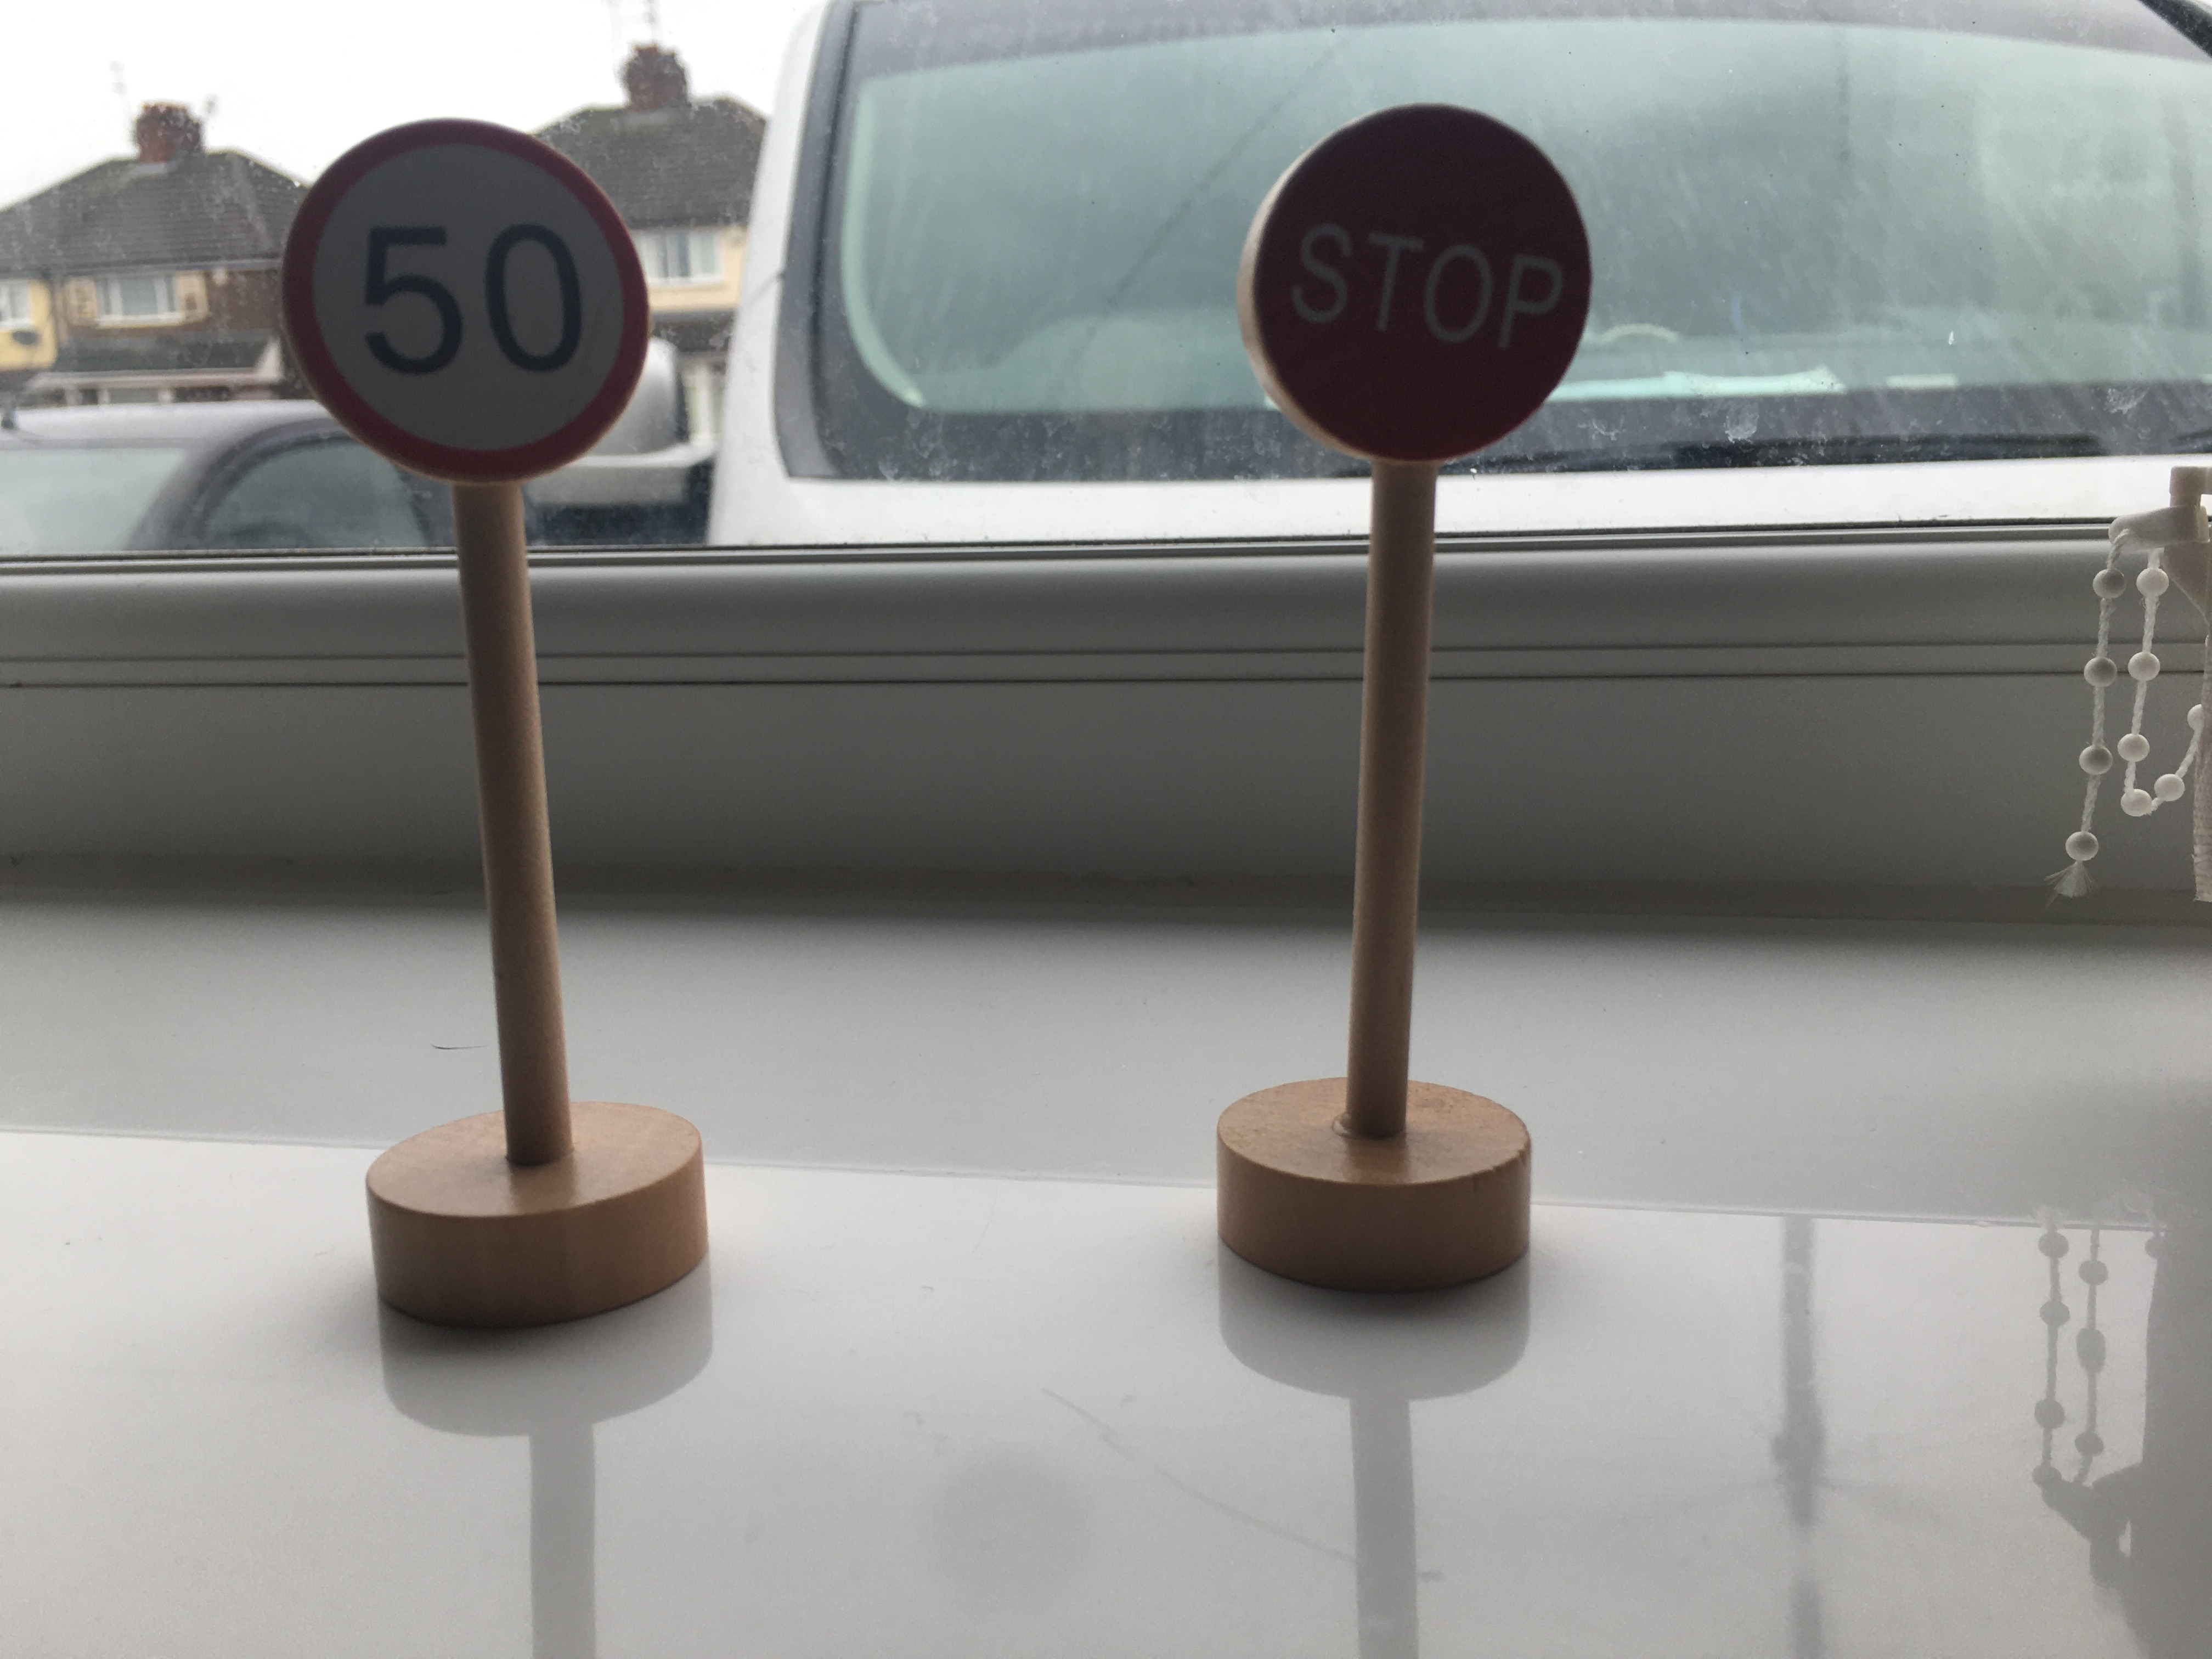Traffic_Sign_50: (265, 112, 669, 486)
Traffic_Sign_Stop: (1223, 99, 1629, 472)
